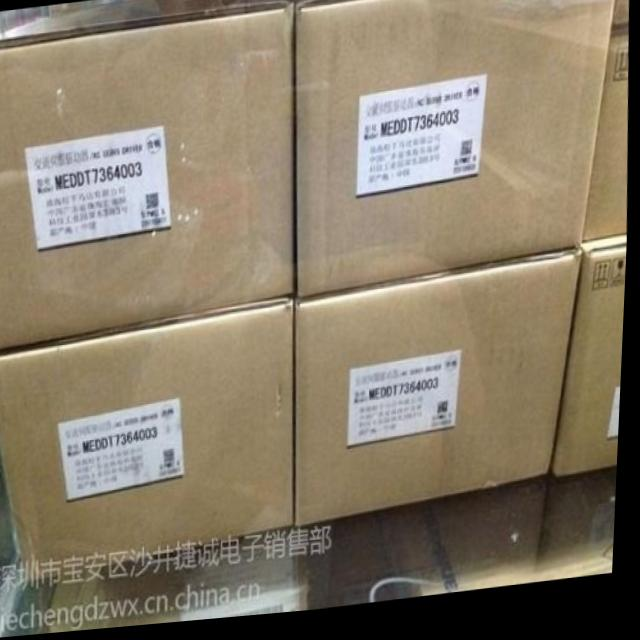box: (0, 0, 297, 349), (288, 0, 616, 303), (0, 299, 297, 580), (294, 258, 583, 529), (47, 533, 312, 635), (382, 488, 553, 605), (556, 247, 627, 488), (539, 476, 621, 587), (584, 41, 627, 252), (611, 0, 628, 45)
